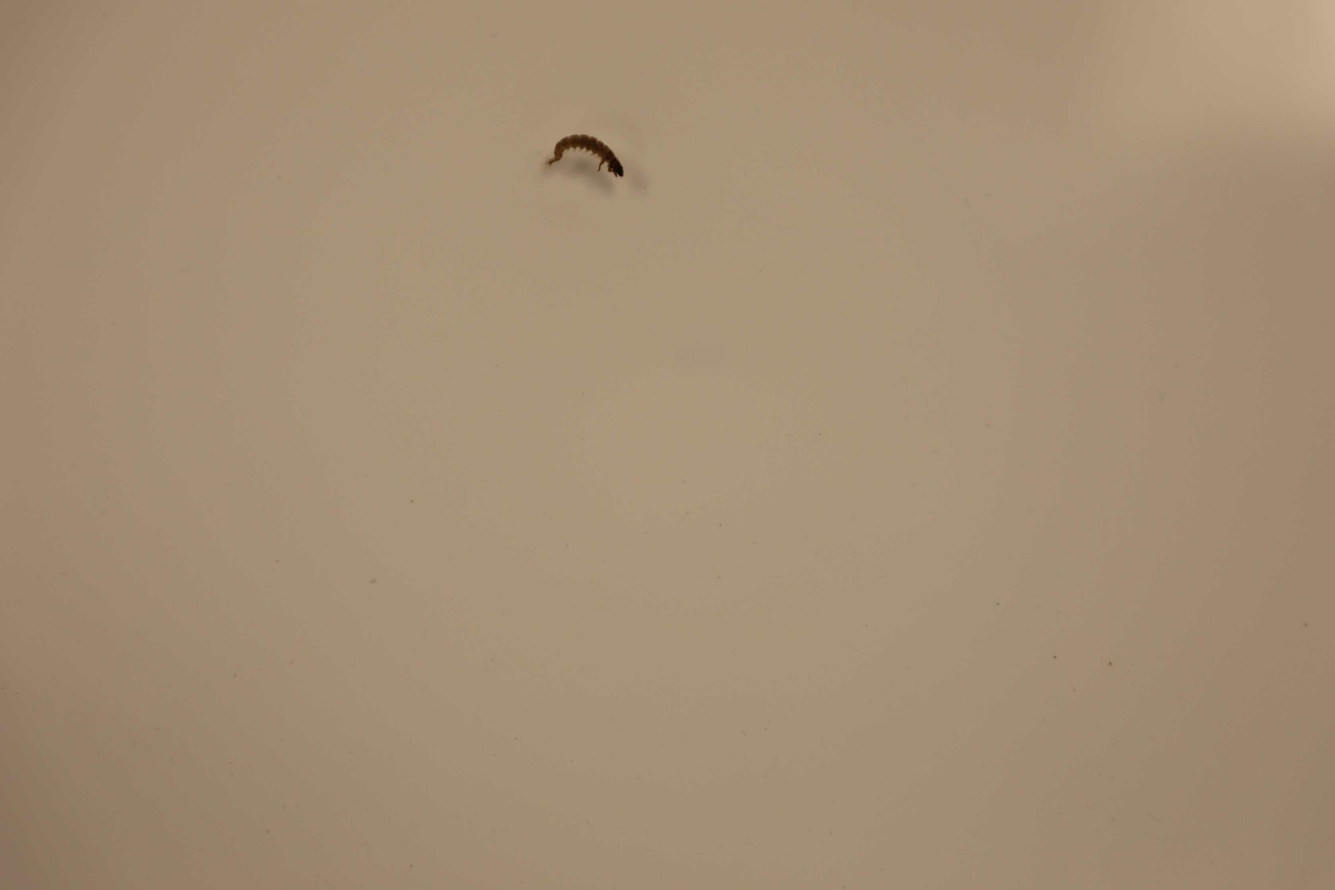Cadisfly: (548, 132, 624, 196)
